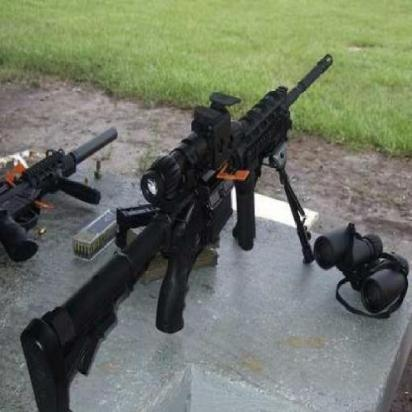Gun: (12, 43, 345, 398)
